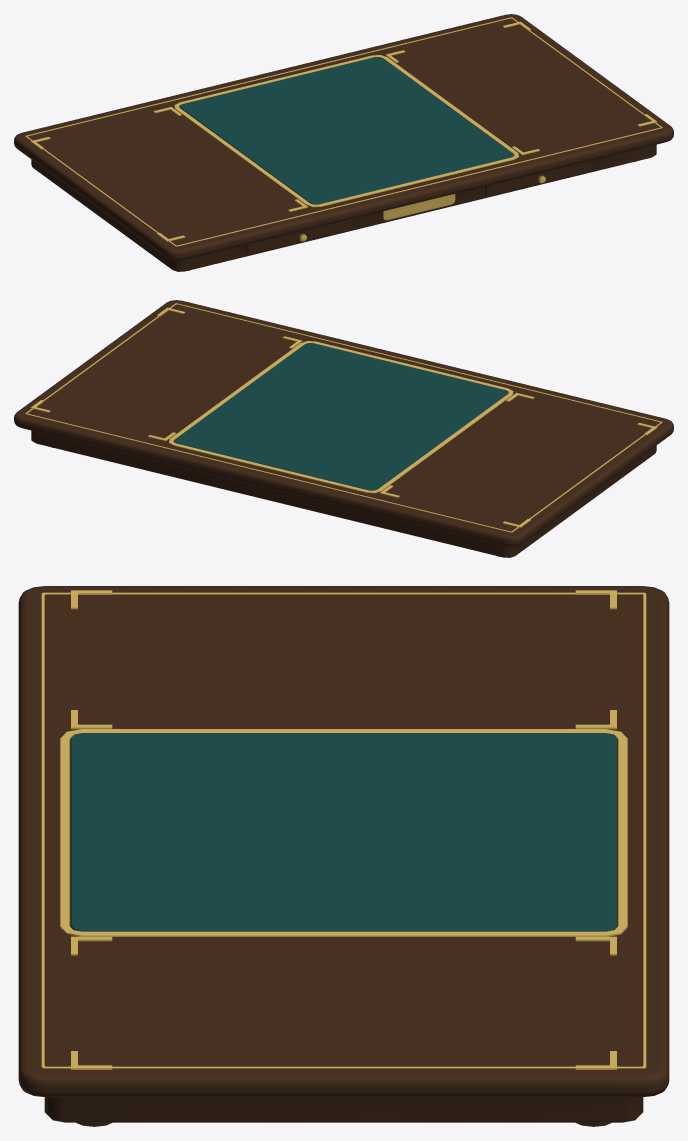
Rendered from workbench.glb.
The picture shows the model from 3 angles, top to bottom: view 1: azimuth 30°, elevation 25°; view 2: azimuth 150°, elevation 25°; view 3: azimuth 270°, elevation 25°; orthographic projection. The views are drawn at different scales.
Visible parts, largest first — view 1: Workbench_Top, Workbench_Frame, Workbench_Drawer; view 2: Workbench_Top, Workbench_Frame; view 3: Workbench_Top, Workbench_Frame.
Boxes of the visible parts, bbox=[...] form: Workbench_Top: bbox=[14, 14, 673, 260]; Workbench_Frame: bbox=[31, 144, 656, 271]; Workbench_Drawer: bbox=[246, 160, 591, 254]; Workbench_Top: bbox=[14, 300, 673, 546]; Workbench_Frame: bbox=[31, 430, 656, 557]; Workbench_Top: bbox=[18, 586, 669, 1097]; Workbench_Frame: bbox=[44, 1097, 643, 1126].
Size of the model in its own units: 0.45 by 0.03 by 0.25.
